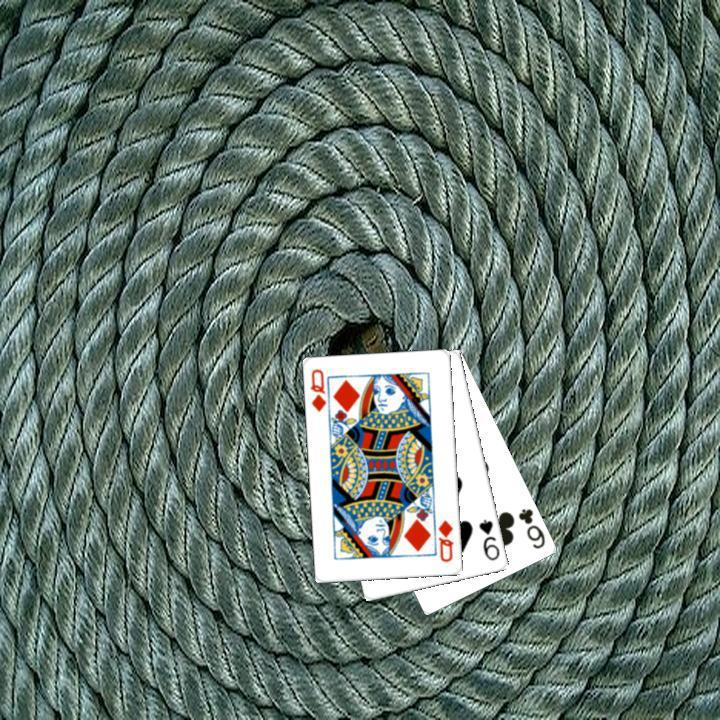6: (514, 504, 548, 551)
9: (475, 515, 502, 563)
Q: (306, 365, 328, 414), (434, 516, 456, 564)
